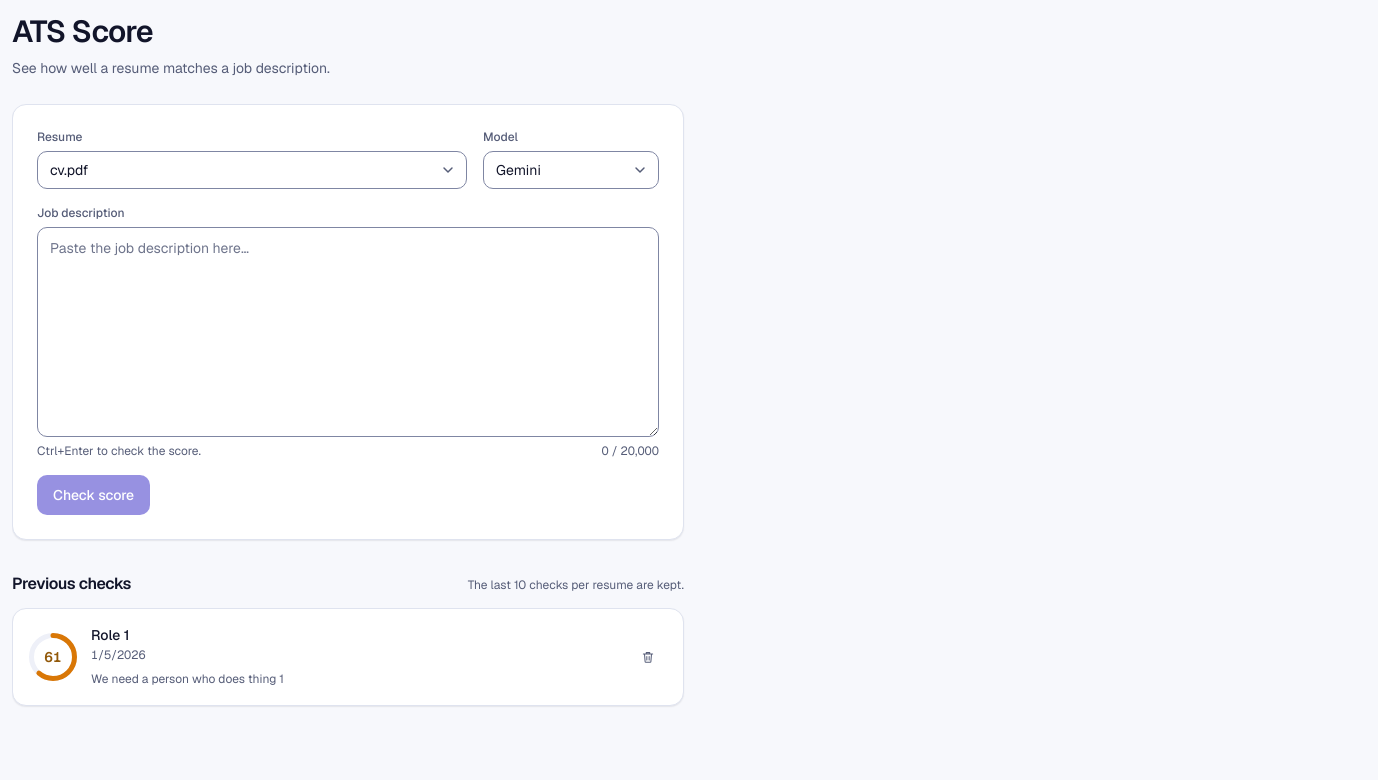
it: ATS previous checks › reports a failure to open a saved result with a toast
Click the button with aria-label "Open saved check: Role 1": [110, 635] box [91, 625, 130, 645]
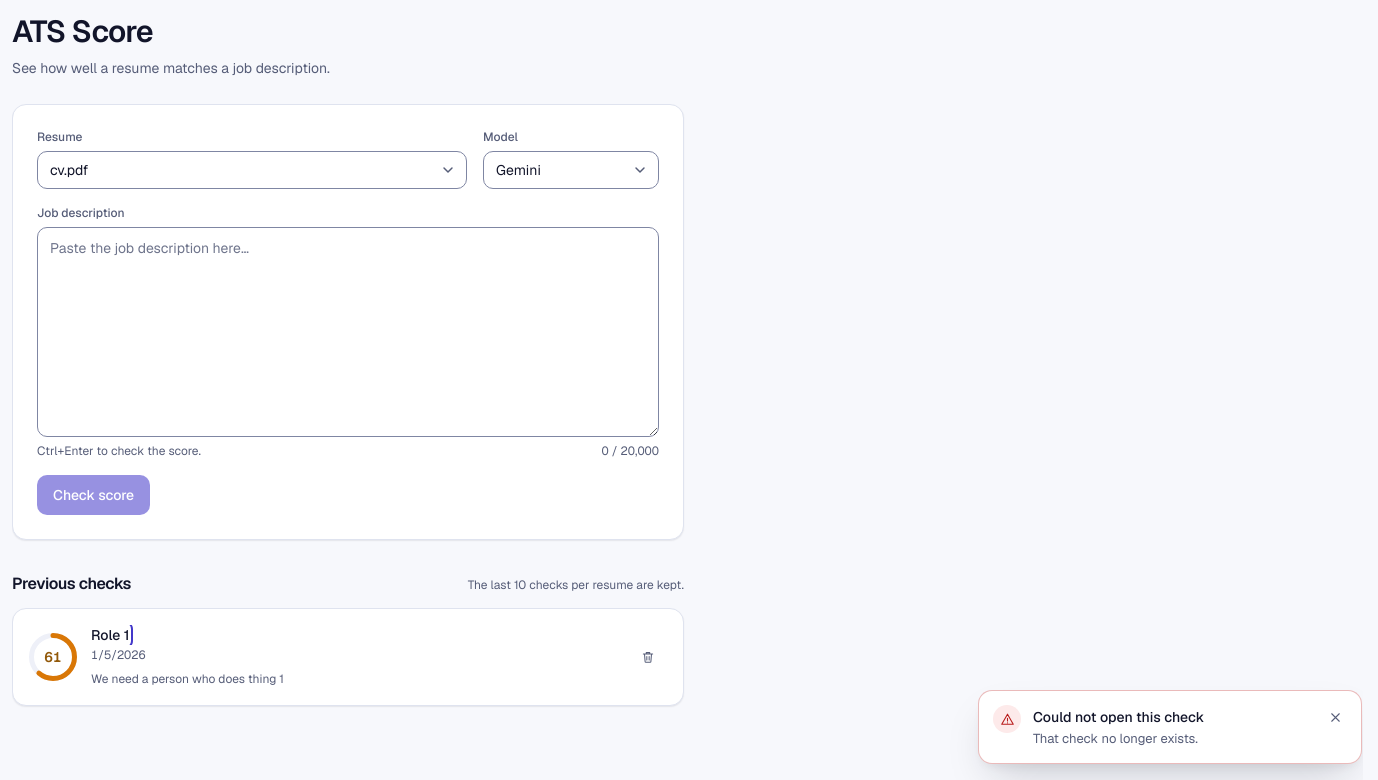
Now the text "That check no longer exists." is shown, box [1033, 730, 1198, 747]
